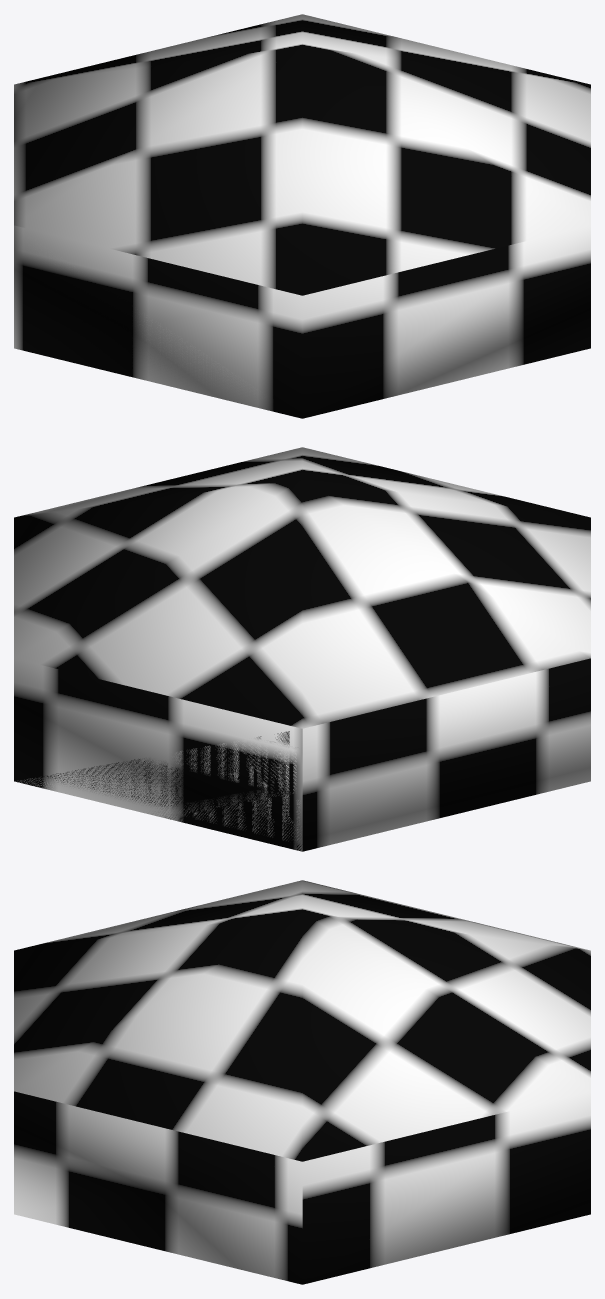
The model's file is sttr146.dae.
The picture shows the model from 3 angles, top to bottom: view 1: azimuth 30°, elevation 25°; view 2: azimuth 150°, elevation 25°; view 3: azimuth 270°, elevation 25°; orthographic projection.
Visible parts, largest first — view 1: base4, pike029; view 2: base4, pike029; view 3: base4.
Boxes of the visible parts, x1,y1,x2,y2 form: base4: [14, 14, 590, 418]; pike029: [14, 226, 301, 418]; base4: [14, 447, 590, 851]; pike029: [15, 731, 302, 851]; base4: [14, 880, 590, 1284].
Size of the model in its own units: 0.3146 by 0.2724 by 0.1206.
Materials: 1 (1 with a texture image).
